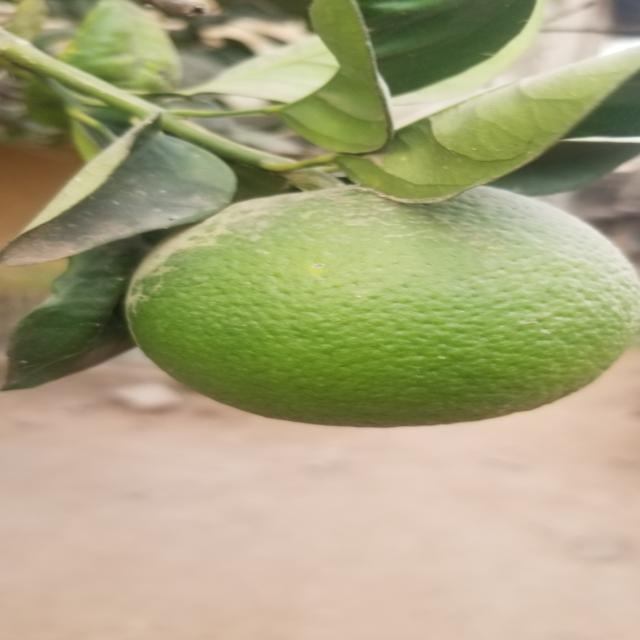agrume: (131, 194, 637, 429)
